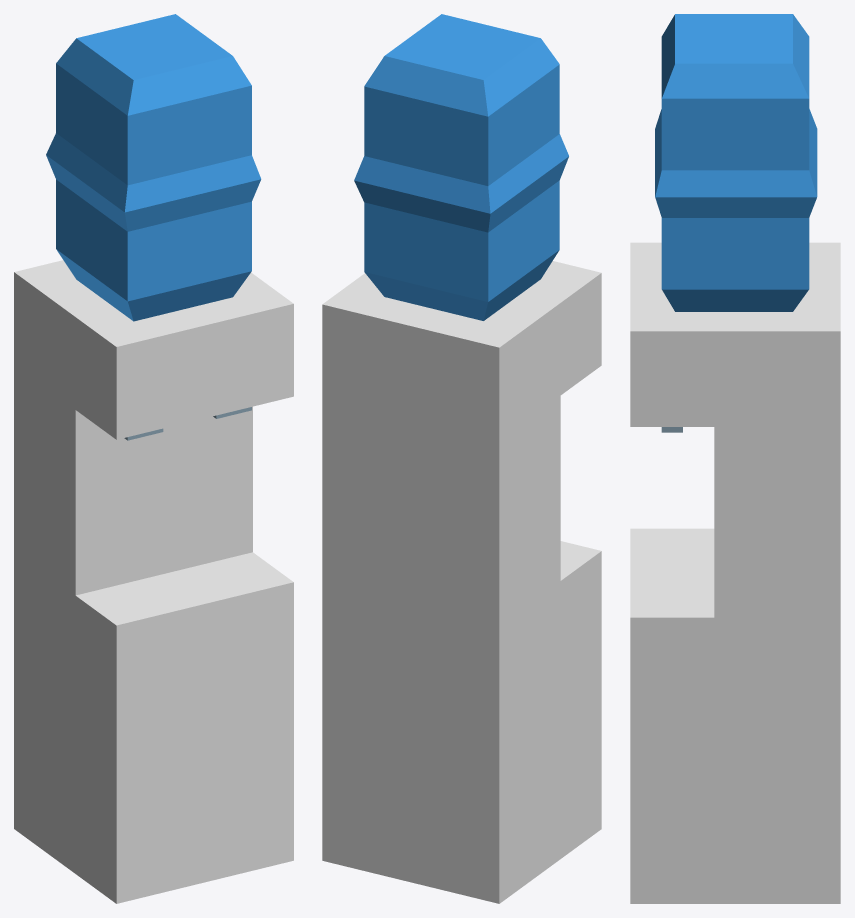
The model's file is water_dispenser.glb.
3 views of the same model, side by side, from view 1: azimuth 30°, elevation 25°; view 2: azimuth 150°, elevation 25°; view 3: azimuth 270°, elevation 25° (orthographic). The views are drawn at different scales.
Visible parts, largest first — view 1: Cube; view 2: Cube; view 3: Cube.
Part boxes in pixels (x1,y1,x2,y2): Cube: [14, 14, 293, 903]; Cube: [322, 14, 601, 903]; Cube: [630, 14, 840, 903].
Size of the model in its own units: 2 by 8.6 by 2.
Materials: 1 (1 with a texture image).
